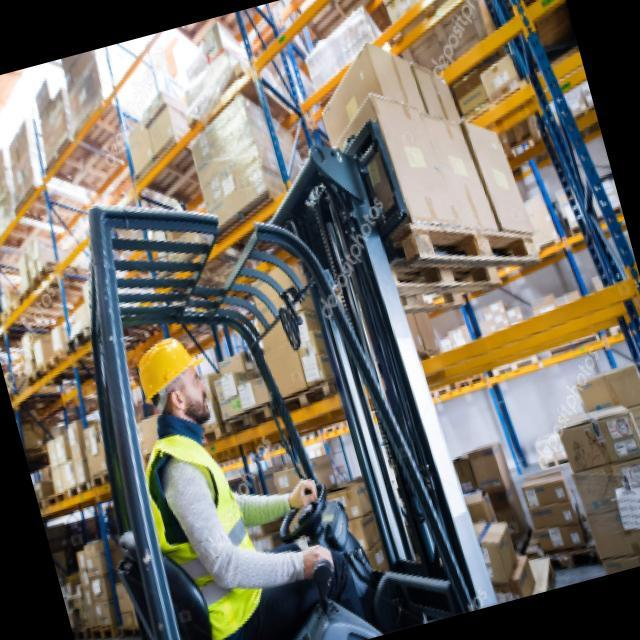helmet: (125, 322, 225, 439)
vest: (126, 415, 285, 640)
